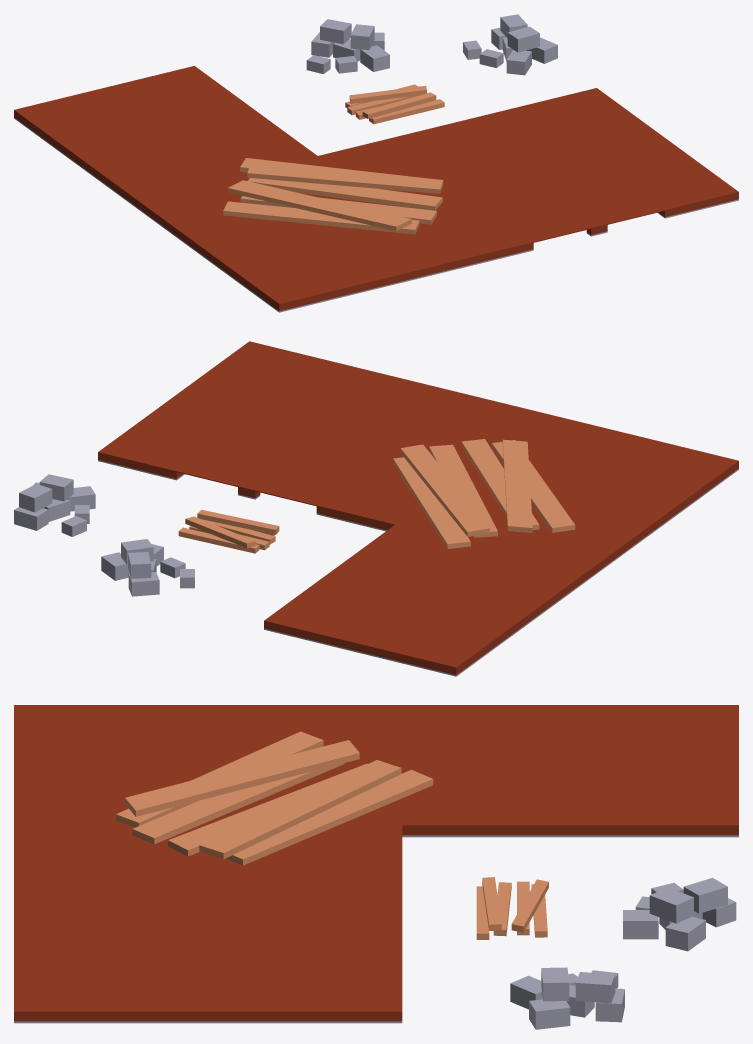
File: Maison3_plan.fbx
The picture shows the model from 3 angles, top to bottom: view 1: azimuth 30°, elevation 25°; view 2: azimuth 150°, elevation 25°; view 3: azimuth 270°, elevation 25°; orthographic projection. The views are drawn at different scales.
Parts seen in each view (by area): view 1: block_491, debris_wood_588, block_columns_485, block_columns_486, block_columns_487, block_columns_488, block_columns_490, block_columns_489, debris_bricks_586, debris_bricks_585, debris_wood_587; view 2: block_491, debris_wood_588, block_columns_487, block_columns_490, block_columns_486, block_columns_485, block_columns_488, block_columns_489, debris_bricks_585, debris_bricks_586, debris_wood_587; view 3: block_491, debris_wood_588, block_columns_486, block_columns_485, block_columns_487, block_columns_488, block_columns_490, block_columns_489, debris_bricks_586, debris_bricks_585, debris_wood_587.
Part boxes in pixels (bbox=[...]): block_491: bbox=[14, 66, 459, 312]; debris_wood_588: bbox=[223, 158, 443, 234]; block_columns_485: bbox=[544, 157, 738, 236]; block_columns_486: bbox=[497, 122, 690, 193]; block_columns_487: bbox=[450, 88, 643, 158]; block_columns_488: bbox=[418, 190, 607, 268]; block_columns_490: bbox=[318, 120, 511, 177]; block_columns_489: bbox=[381, 155, 557, 219]; debris_bricks_586: bbox=[306, 19, 389, 73]; debris_bricks_585: bbox=[463, 14, 557, 75]; debris_wood_587: bbox=[345, 84, 444, 124]; block_491: bbox=[264, 414, 738, 676]; debris_wood_588: bbox=[393, 439, 575, 548]; block_columns_487: bbox=[98, 415, 305, 499]; block_columns_490: bbox=[238, 449, 419, 531]; block_columns_486: bbox=[149, 378, 355, 453]; block_columns_485: bbox=[199, 341, 406, 416]; block_columns_488: bbox=[339, 376, 546, 449]; block_columns_489: bbox=[289, 412, 494, 476]; debris_bricks_585: bbox=[14, 474, 95, 536]; debris_bricks_586: bbox=[101, 539, 194, 596]; debris_wood_587: bbox=[178, 509, 279, 553]; block_491: bbox=[14, 705, 738, 837]; debris_wood_588: bbox=[116, 731, 433, 865]; block_columns_486: bbox=[143, 913, 272, 1023]; block_columns_485: bbox=[14, 913, 143, 1023]; block_columns_487: bbox=[273, 913, 402, 1023]; block_columns_488: bbox=[14, 825, 143, 923]; block_columns_490: bbox=[273, 825, 402, 923]; block_columns_489: bbox=[143, 825, 272, 923]; debris_bricks_586: bbox=[623, 878, 736, 951]; debris_bricks_585: bbox=[510, 967, 624, 1029]; debris_wood_587: bbox=[476, 877, 548, 939].
Size of the model in its own units: 57.21 by 3.12 by 56.
